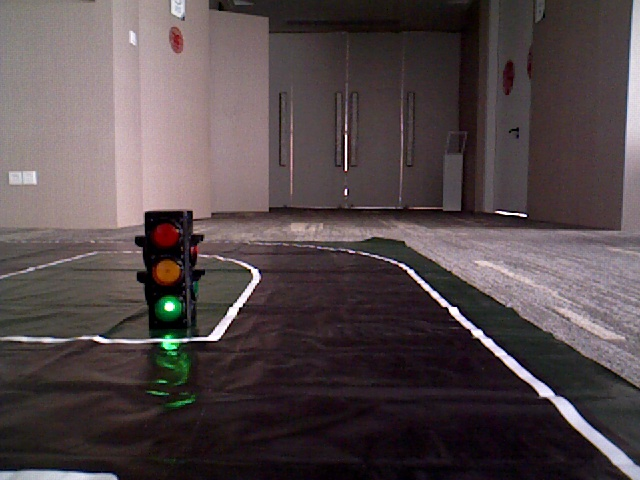green: (147, 212, 189, 327)
